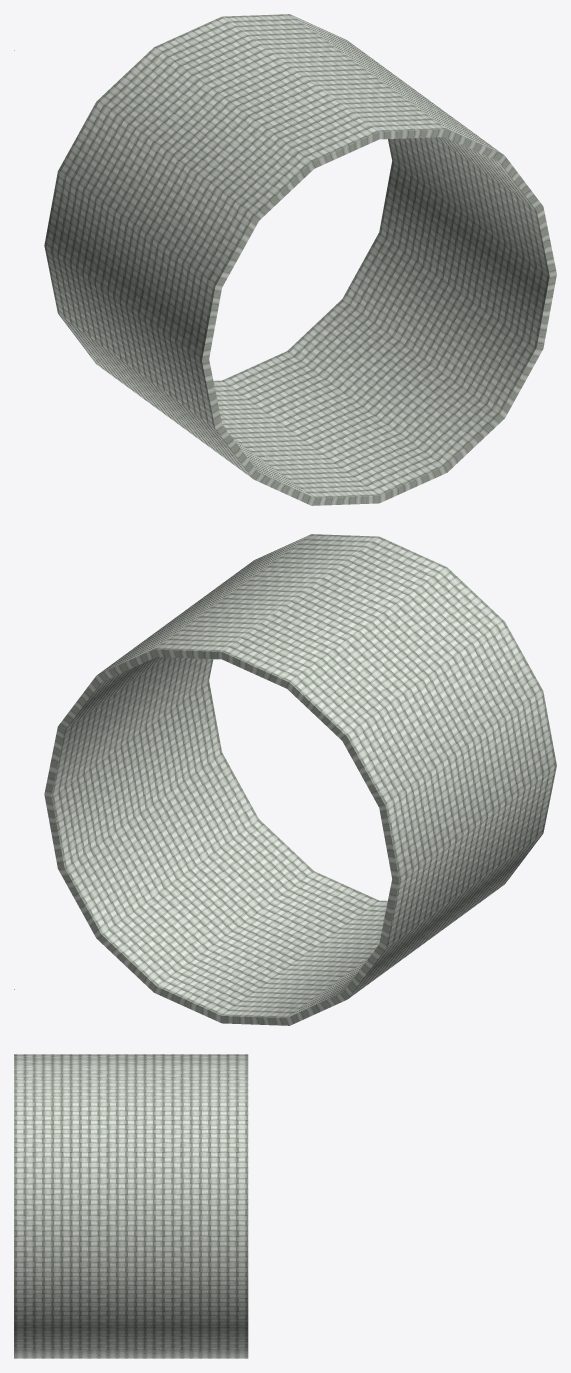
The model's file is MeshDeskLamp_3_0_GeomSubset_2.obj.
3 views of the same model, one above another, from view 1: azimuth 30°, elevation 25°; view 2: azimuth 150°, elevation 25°; view 3: azimuth 270°, elevation 25° (orthographic). The views are drawn at different scales.
Parts seen in each view (by area): view 1: MeshDeskLamp_3_0_GeomSubset_2; view 2: MeshDeskLamp_3_0_GeomSubset_2; view 3: MeshDeskLamp_3_0_GeomSubset_2.
Boxes of the visible parts, <box> form: MeshDeskLamp_3_0_GeomSubset_2: <box>14,14,556,505</box>; MeshDeskLamp_3_0_GeomSubset_2: <box>14,534,556,1025</box>; MeshDeskLamp_3_0_GeomSubset_2: <box>14,1054,248,1358</box>.
Bounding box in the file's own units: 0.1957 × 0.1957 × 0.3485.
1 material, 1 textured.
